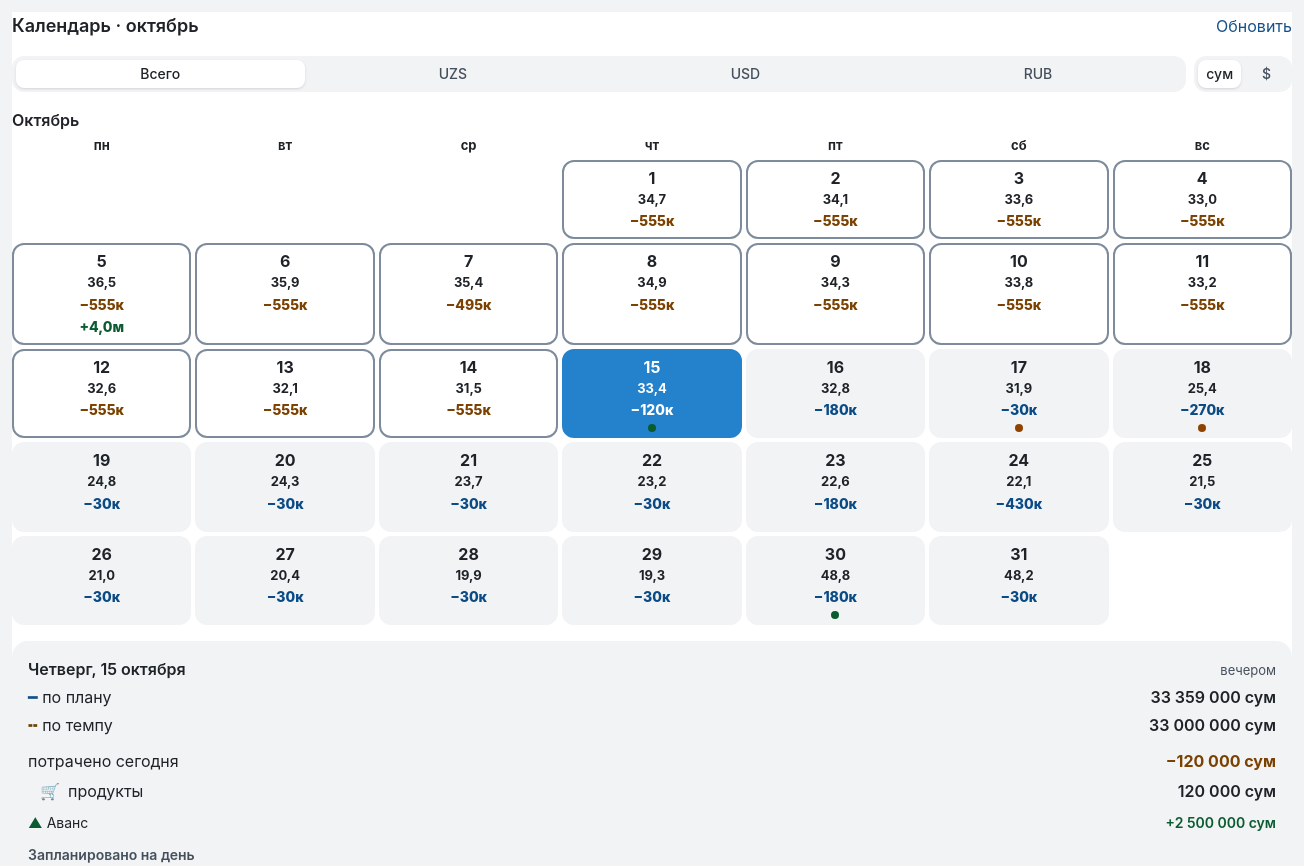
ForecastScreen › warns when the pace takes the sums below zero
Expected: the heading "Октябрь" is shown, [12, 110, 79, 130]
Expected: the text "уйдут в минус" is not shown
Click the radio button labelled "UZS": (453, 74) [309, 60, 597, 88]
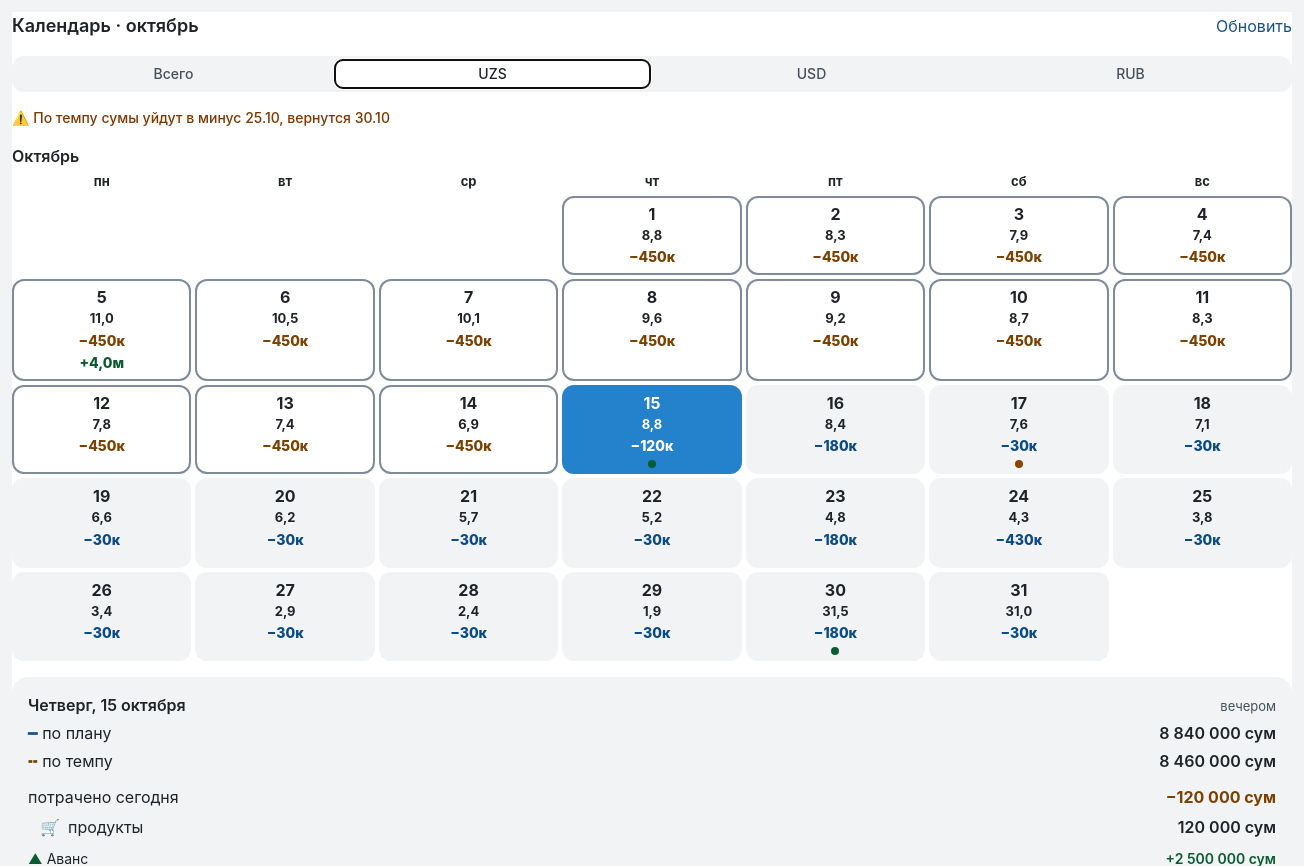
Now the text "⚠️ По темпу сумы уйдут в минус 25.10, вернутся 30.10" is shown, box [12, 109, 390, 126]
